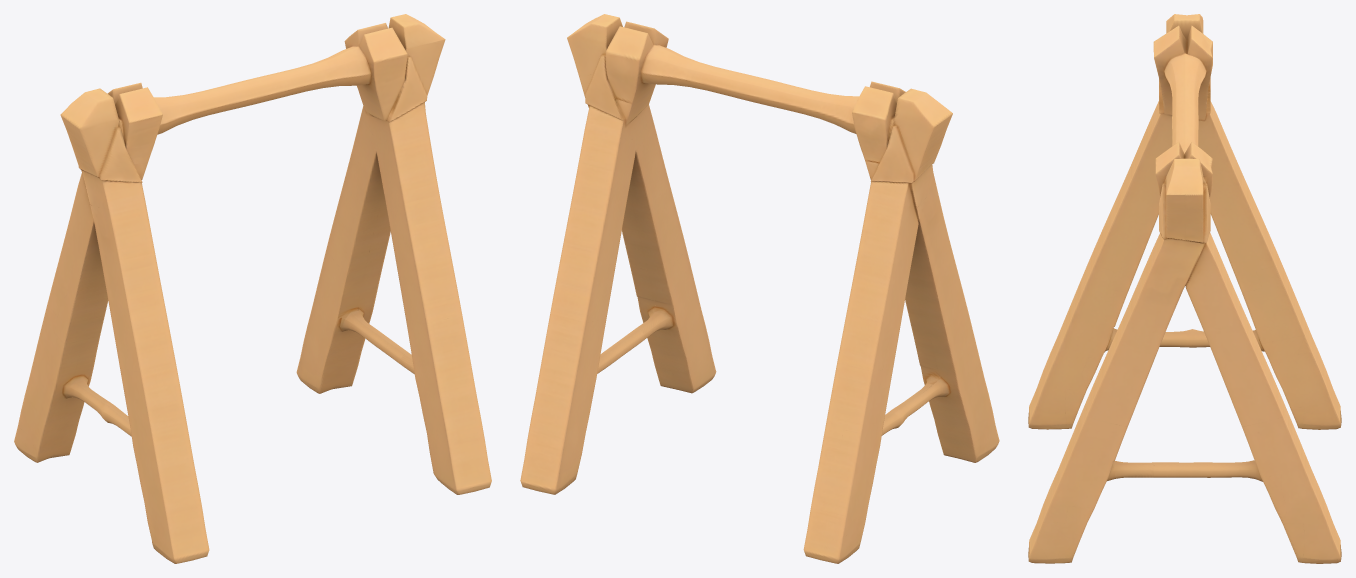
Rendered from base_basic_shaded.fbx.
3 views of the same model, side by side, from view 1: azimuth 30°, elevation 25°; view 2: azimuth 150°, elevation 25°; view 3: azimuth 270°, elevation 25° (orthographic). The views are drawn at different scales.
Parts seen in each view (by area): view 1: model; view 2: model; view 3: model.
Boxes of the visible parts, bbox=[...] form: model: bbox=[14, 14, 491, 563]; model: bbox=[520, 14, 999, 563]; model: bbox=[1028, 14, 1341, 563].
Bounding box in the file's own units: 160 × 173 × 122.
